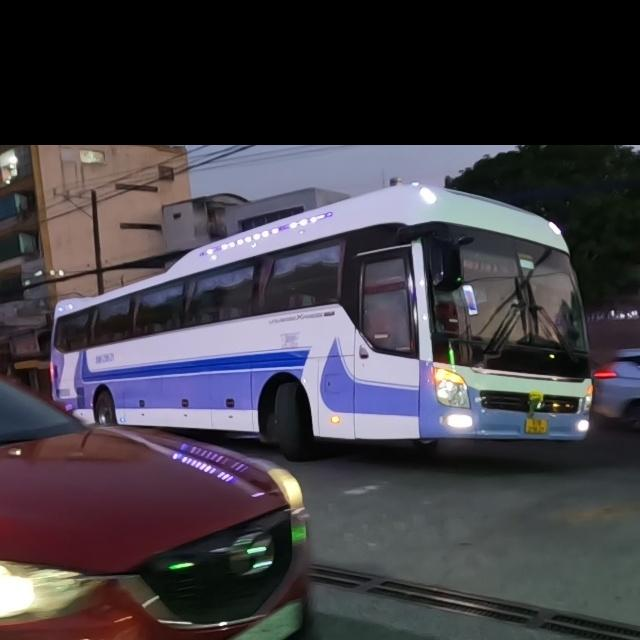license-plate: (524, 417, 549, 435)
